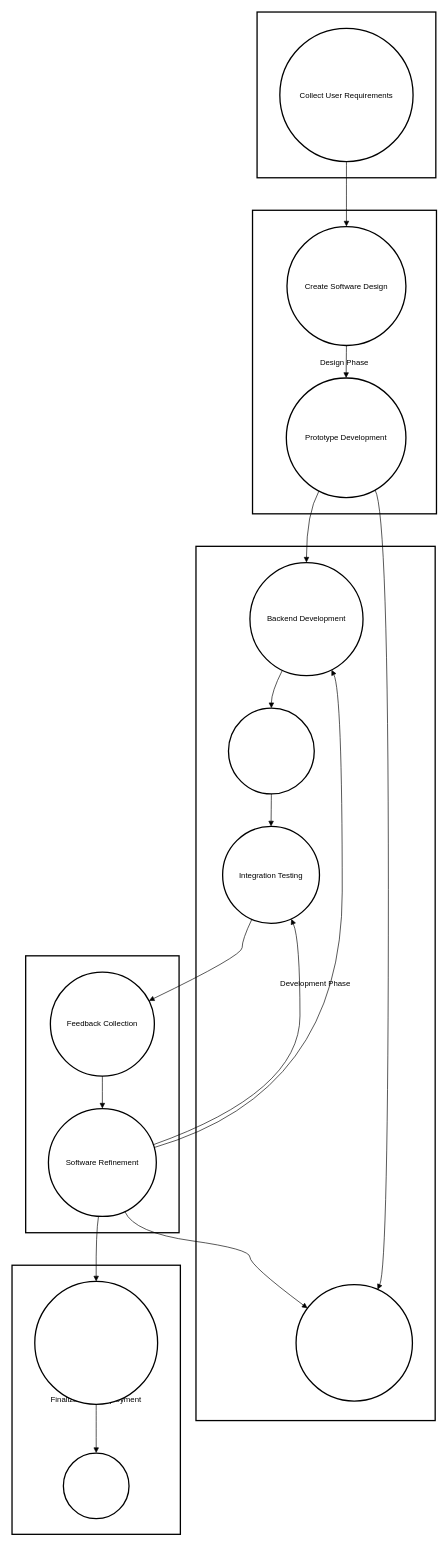
Image size: 448x1546. Some labels were removed from this diagram. The shapes that lost their labels are listed below. From the top down, each one's box as (x1, y1, x2, y2) in pixels, then its label:
(228, 707, 315, 794): Database Design
(25, 955, 179, 1233): Adaptation
(34, 1280, 158, 1405): User Acceptance Testing
(295, 1284, 413, 1401): Frontend Development
(62, 1452, 129, 1519): Deployment
